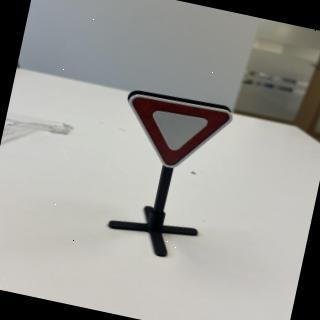sign_yield: (115, 87, 241, 183)
